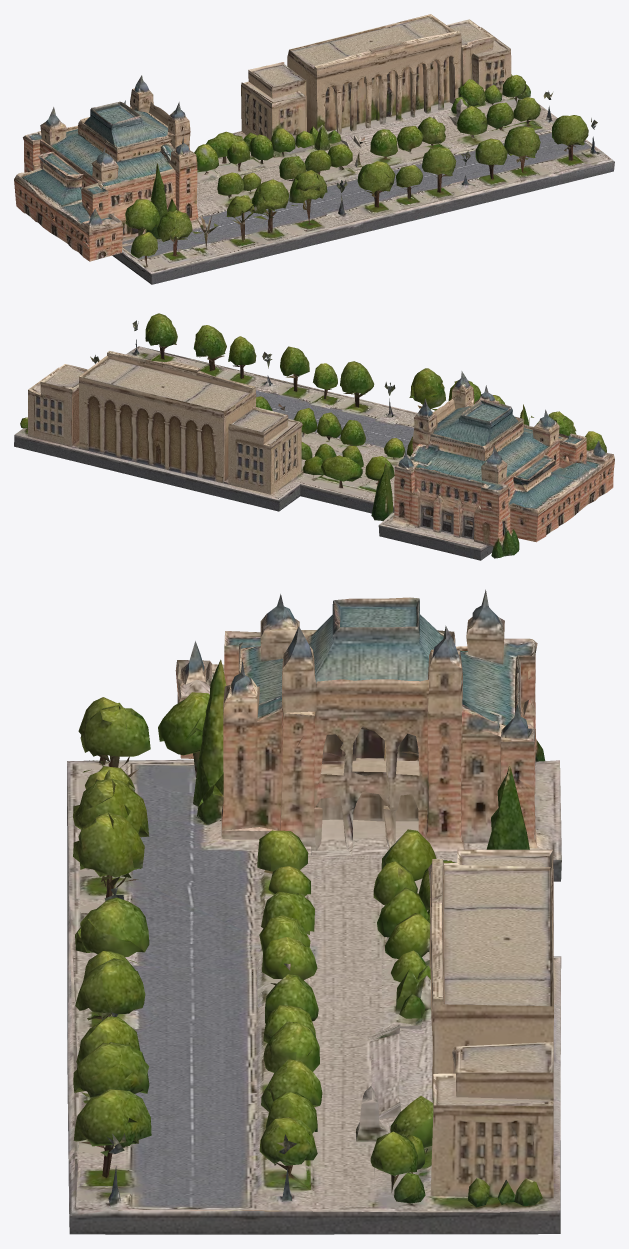
File: m_tb_rustaveli.glb
3 renders of one model, top to bottom at view 1: azimuth 30°, elevation 25°; view 2: azimuth 150°, elevation 25°; view 3: azimuth 270°, elevation 25°, orthographic. The views are drawn at different scales.
Size of the model in its own units: 0.999 by 0.23 by 0.4278.
1 material, 1 textured.
